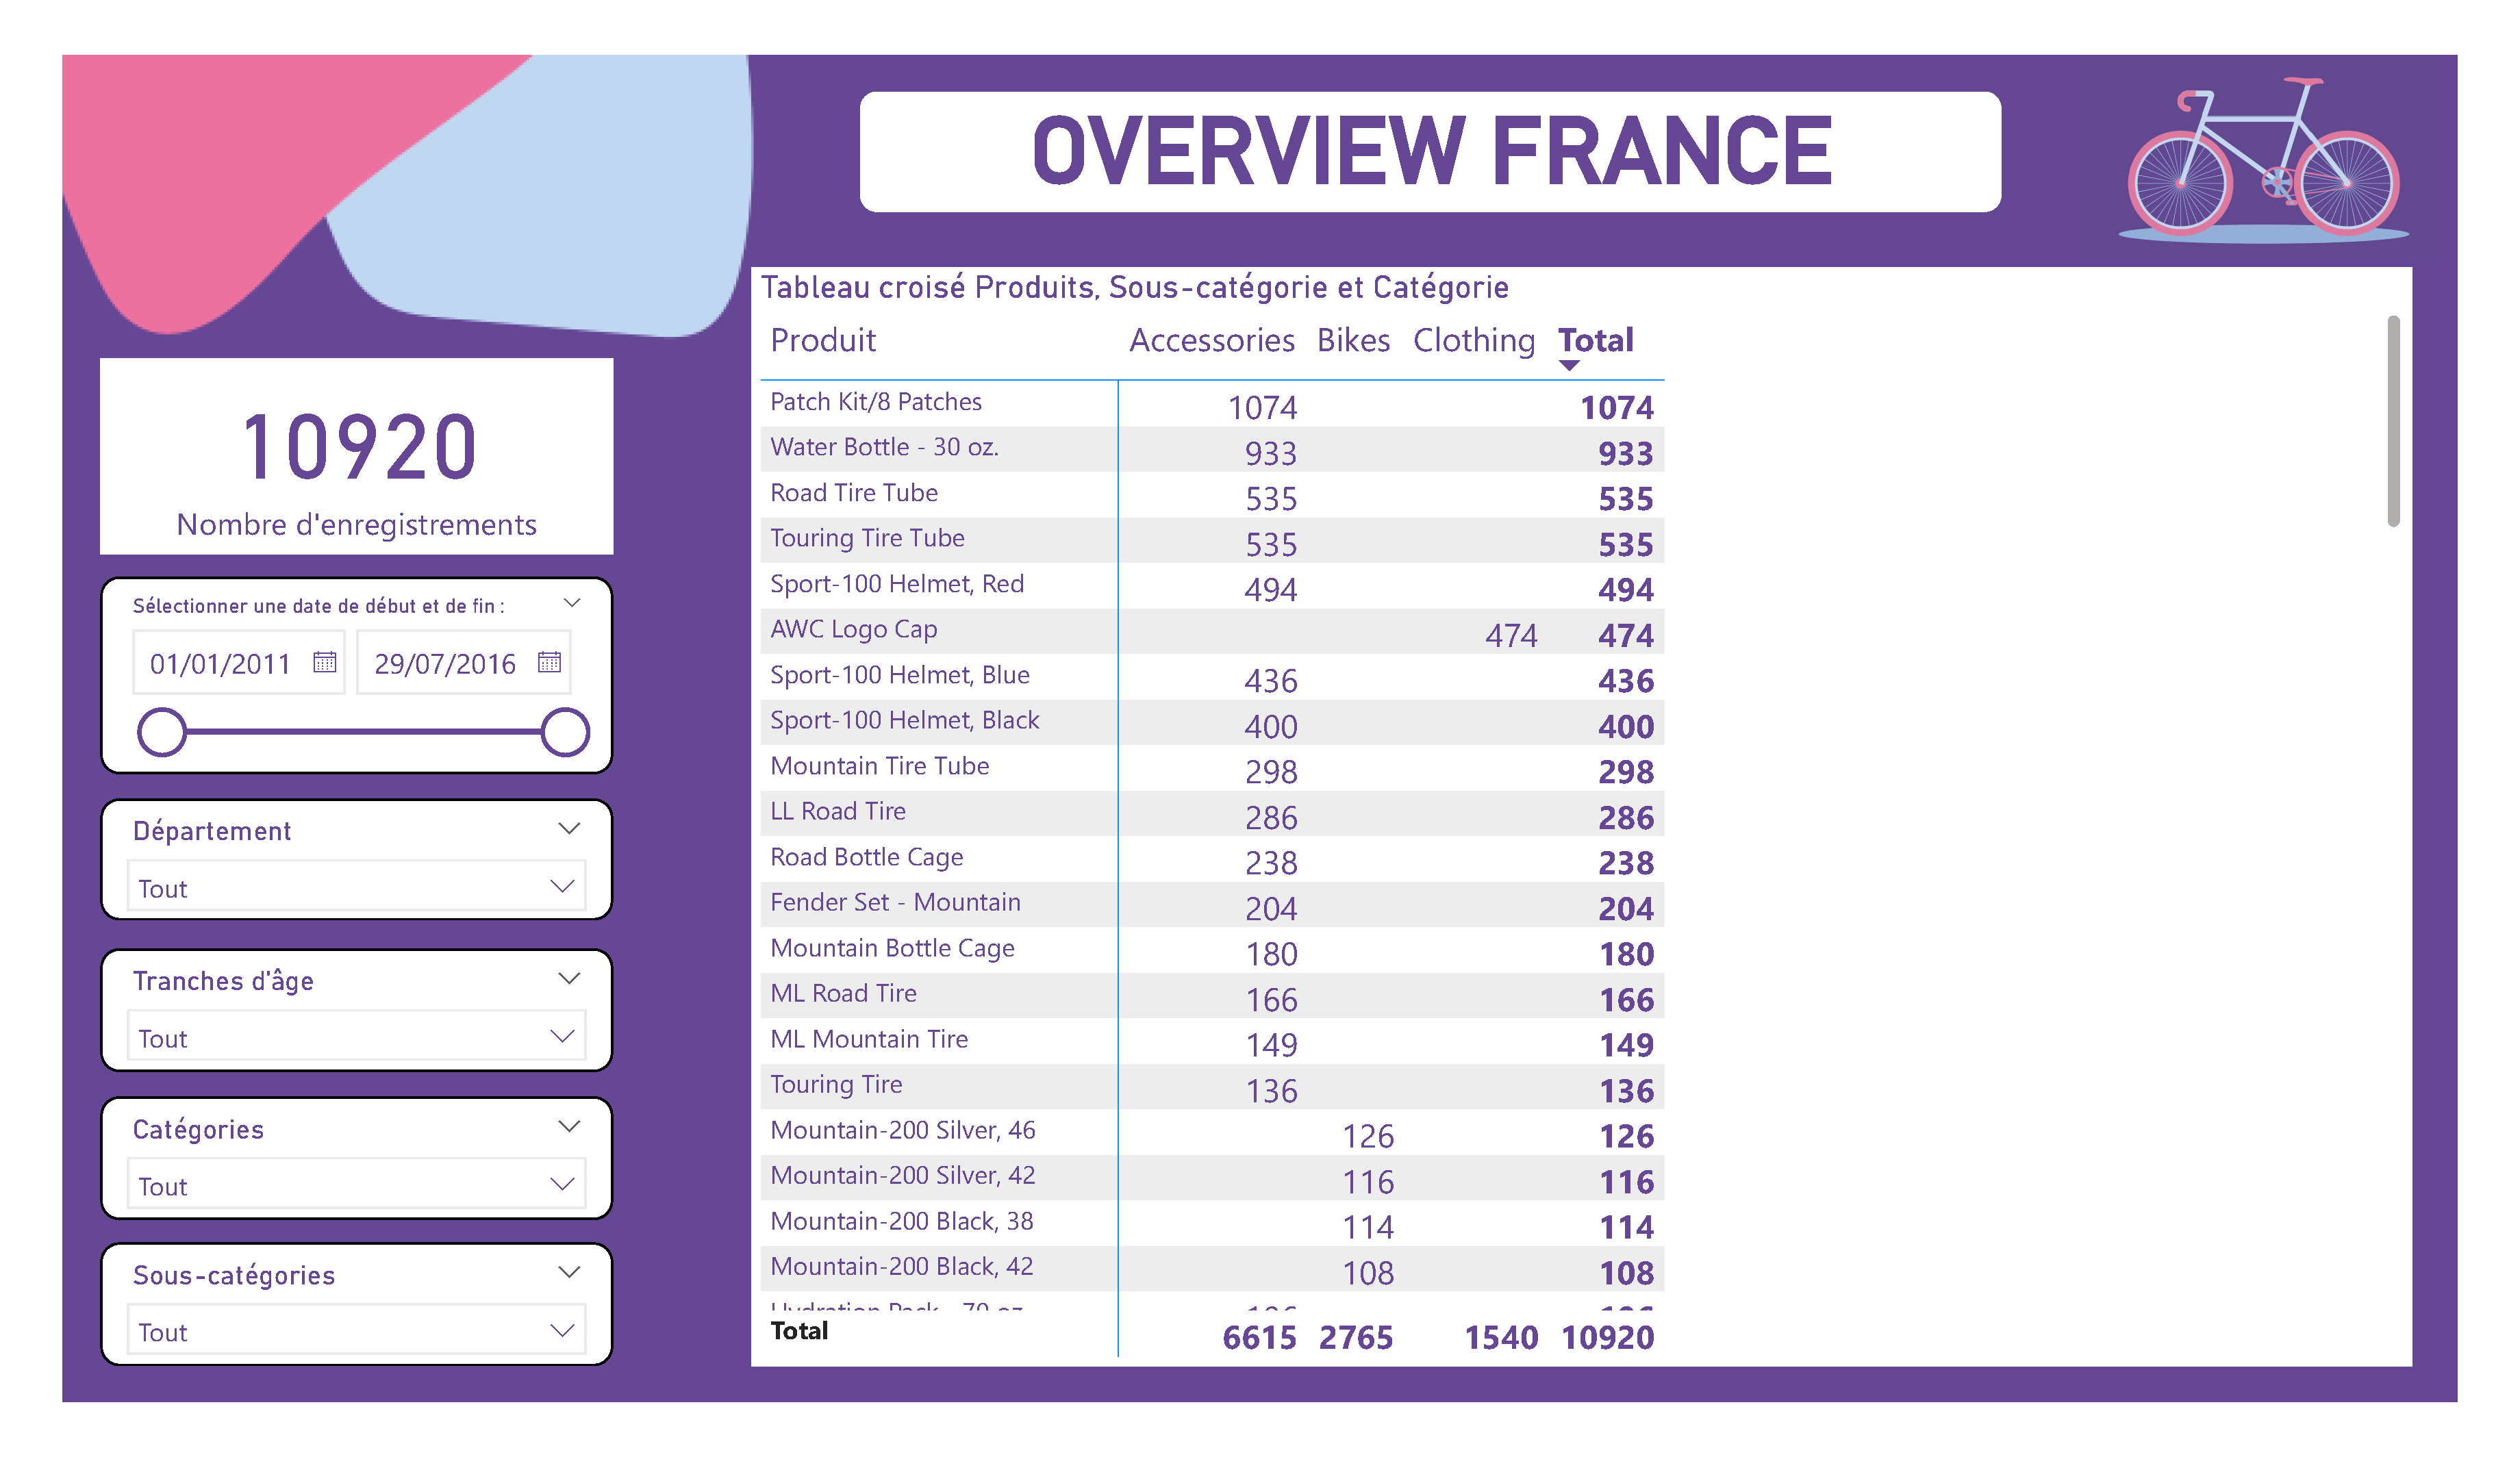

The page's visual inventory and layout, read from the dashboard file:
{"tool":"powerbi","page":{"name":"Overview 2/2","canvas":[1280,720],"ordinal":1},"visuals":[{"type":"image","box":[0,0,1280.3,720.4],"z":0},{"type":"image","box":[1063.5,0,207.2,116.6],"z":1000},{"type":"textbox","title":"OVERVIEW FRANCE","box":[428.1,23.3,603.8,65.9],"z":2000},{"type":"pivotTable","title":"Tableau croisé Produits, Sous-catégorie et Catégorie","fields":{"Values":["CountNonNull(france_df.Product)"],"Rows":["france_df.Product"],"Columns":["france_df.Product_Category","france_df.Sub_Category"]},"box":[371.9,116.6,875.5,579.1],"z":3000},{"type":"card","fields":{"Values":["CountNonNull(france_df.Date)"]},"box":[29.1,164.7,270.3,102.9],"z":4000},{"type":"slicer","fields":{"Values":["france_df.Date"]},"box":[29.1,279.9,270.3,104.3],"z":8000},{"type":"slicer","fields":{"Values":["france_df.State"]},"box":[29.1,396.6,270.3,64.5],"z":9000},{"type":"slicer","fields":{"Values":["france_df.Age_Group"]},"box":[29.1,476.2,270.3,64.5],"z":10000},{"type":"slicer","fields":{"Values":["france_df.Product_Category"]},"box":[29.1,554.4,270.3,64.5],"z":11000},{"type":"slicer","fields":{"Values":["france_df.Sub_Category"]},"box":[29.1,631.2,270.3,64.5],"z":12000}]}

Visuals, with their boxes in screenshot pixels (x1, y1, x2, y2), scaled from the page's 1280x720 canvas onto the 2520x1457 screenshot:
image: locate(0, 0, 2519, 1456)
image: locate(2094, 0, 2502, 236)
"OVERVIEW FRANCE" textbox: locate(843, 47, 2032, 181)
"Tableau croisé Produits, Sous-catégorie et Catégorie" pivotTable: locate(732, 236, 2456, 1408)
card - CountNonNull(france_df.Date): locate(58, 333, 590, 542)
slicer - france_df.Date: locate(58, 566, 590, 778)
slicer - france_df.State: locate(58, 802, 590, 933)
slicer - france_df.Age_Group: locate(58, 963, 590, 1094)
slicer - france_df.Product_Category: locate(58, 1122, 590, 1252)
slicer - france_df.Sub_Category: locate(58, 1278, 590, 1408)
